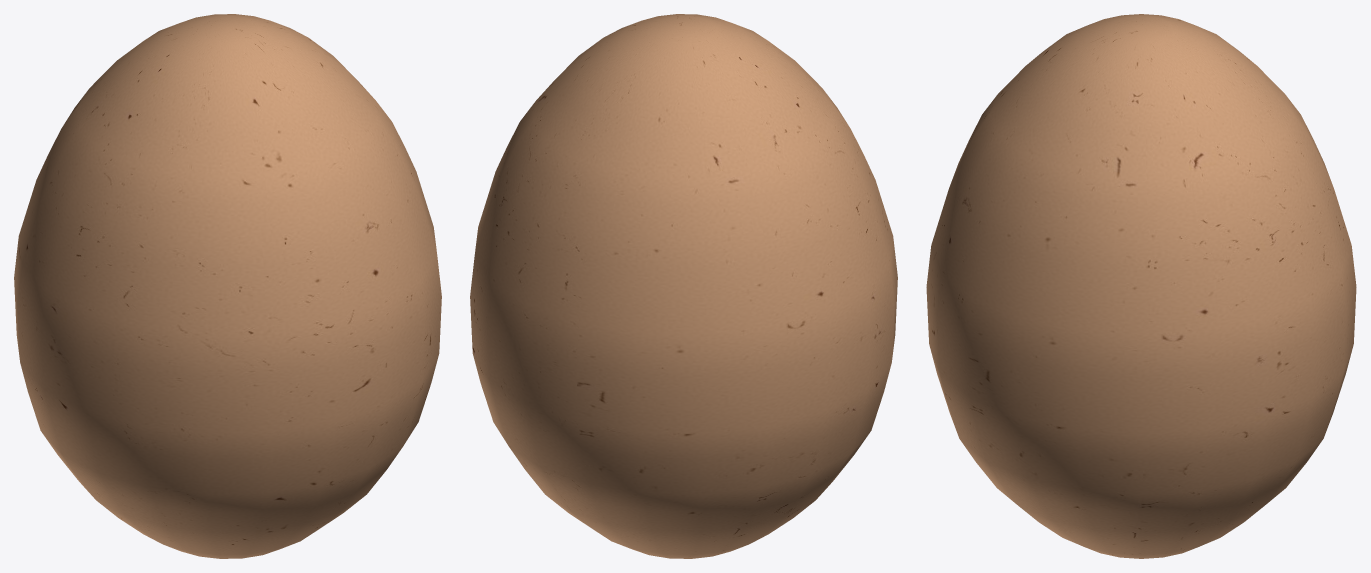
Rendered from Egg2.fbx.
3 renders of one model, left to right at view 1: azimuth 30°, elevation 25°; view 2: azimuth 150°, elevation 25°; view 3: azimuth 270°, elevation 25°, orthographic.
Parts seen in each view (by area): view 1: Egg1; view 2: Egg1; view 3: Egg1.
Part boxes in pixels (x1,y1,x2,y2): Egg1: (14, 14, 441, 558); Egg1: (470, 14, 897, 558); Egg1: (926, 14, 1356, 558).
Size of the model in its own units: 10.38 by 13.75 by 10.38.
